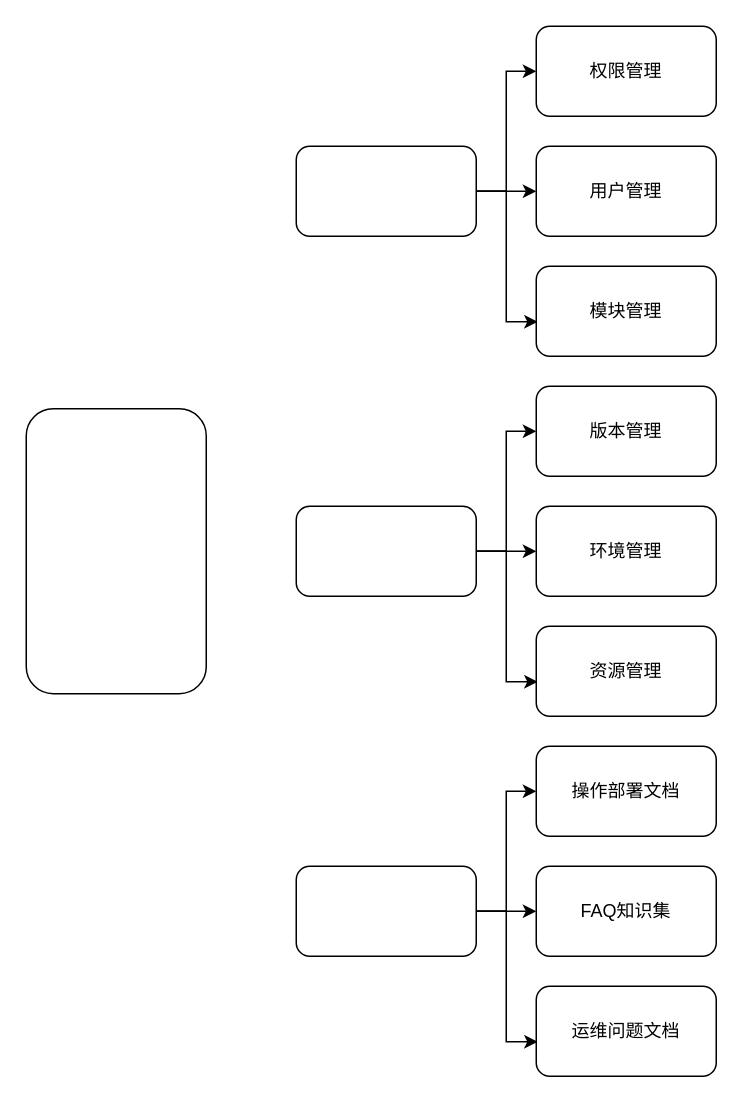
The diagram is 743 pixels wide and 1103 high, and some of its shapes have lost their labels. Each missing label, with the box of its shape:
后台管理: (295, 145, 476, 236)
知识库: (295, 865, 476, 956)
运维平台: (25, 407, 206, 694)
项目管理: (295, 505, 476, 596)
